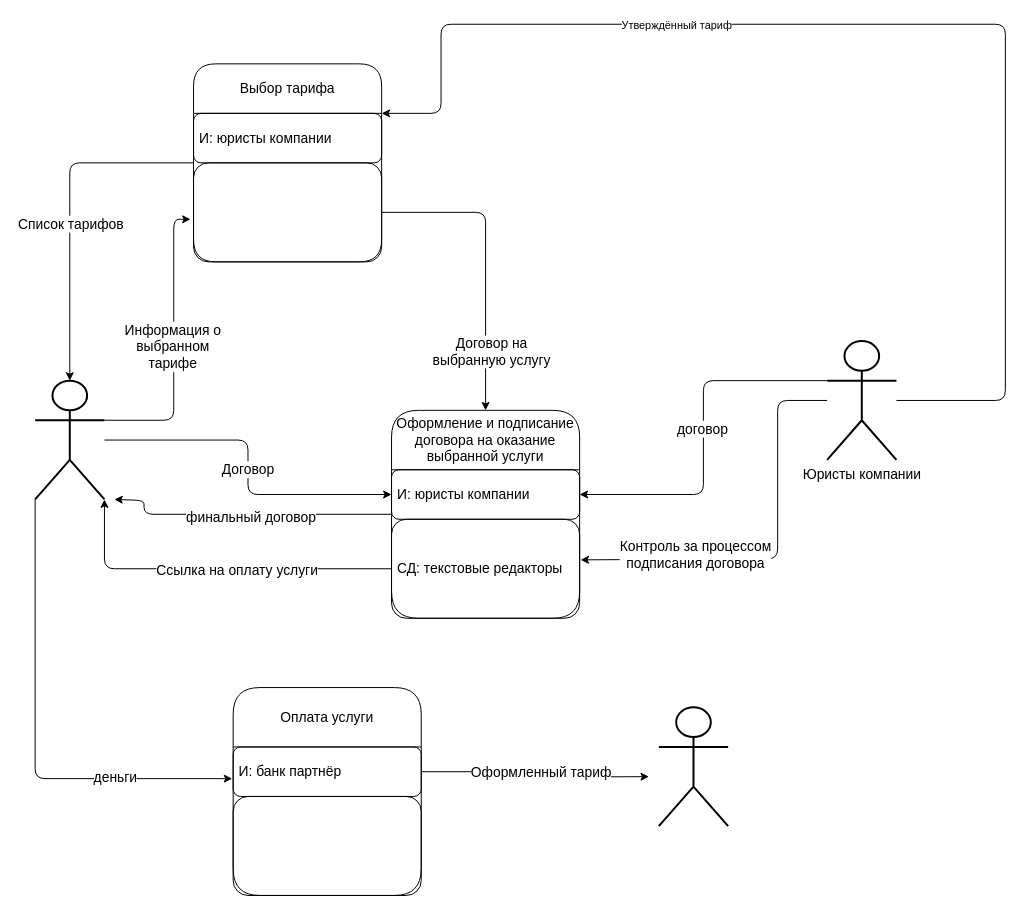
Some shapes in this 1031 by 913 pixel diagram are drawn without their labels. Here are the shapes that lost their labels. From the top down, the centre of each, then its label:
point 287,212: СД: сайт компании
point 69,439: Клиент
point 693,766: АСУТ
point 326,845: СД: сайт компании, платёжный сервис
